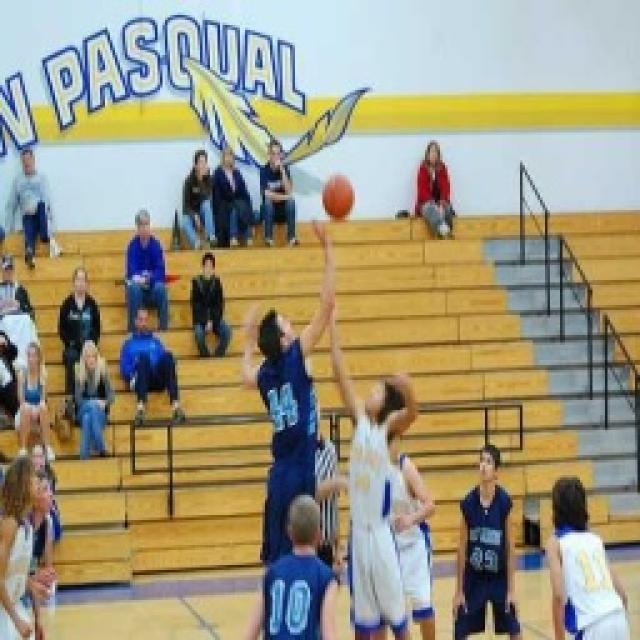rim: (320, 170, 360, 225)
